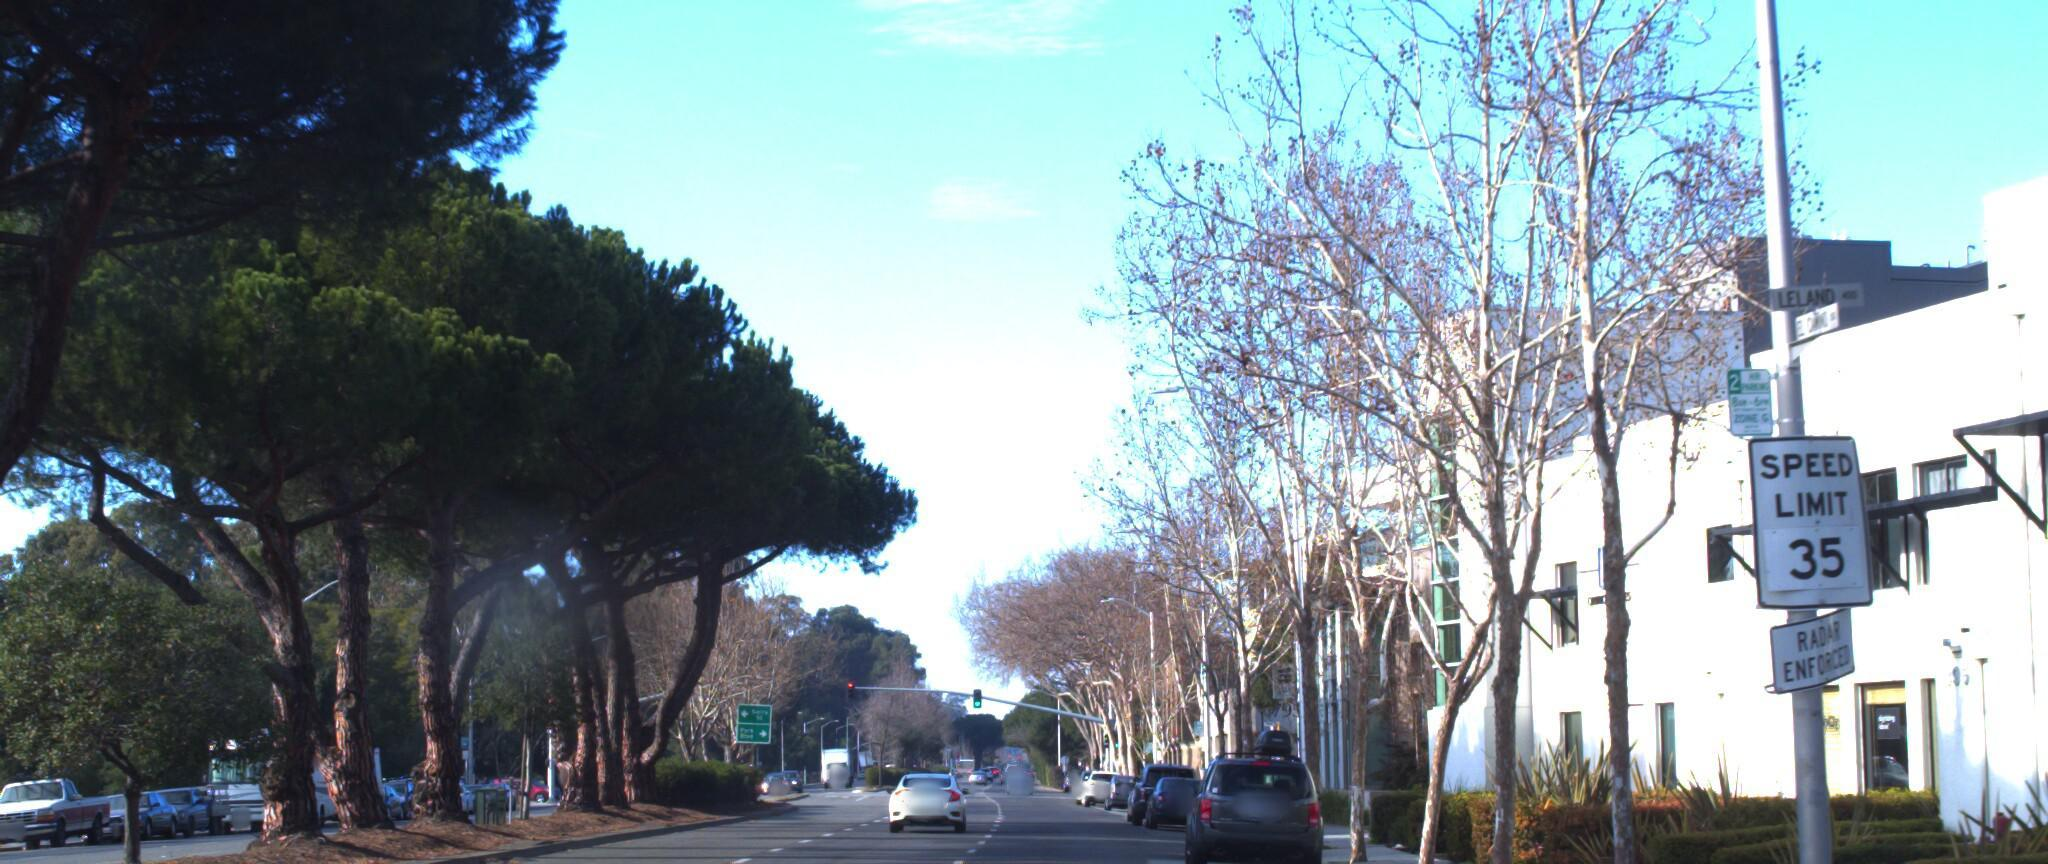car: (1178, 713, 1330, 864), (0, 758, 121, 854), (886, 754, 976, 822), (1135, 764, 1211, 824)
